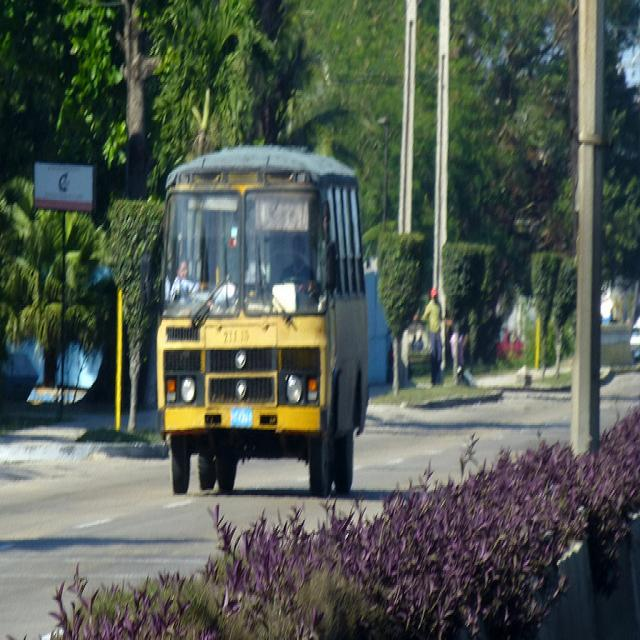Vehicle: (154, 141, 370, 500), (496, 325, 528, 359), (630, 317, 640, 359)
